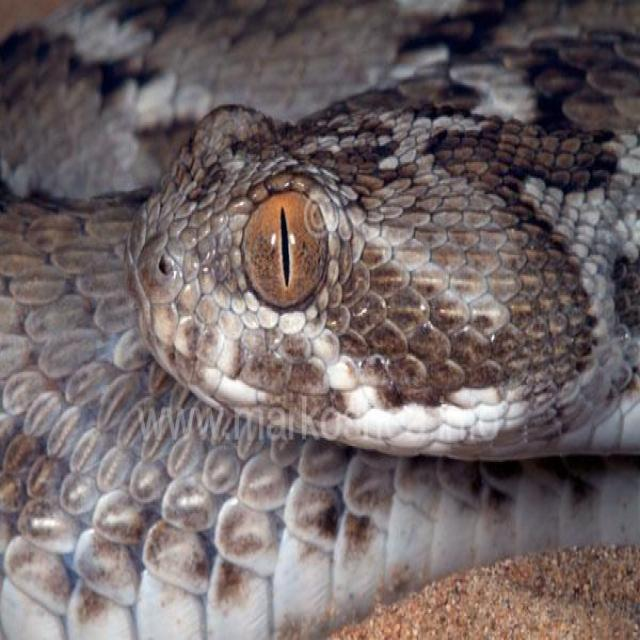Snake: (121, 83, 640, 462)
